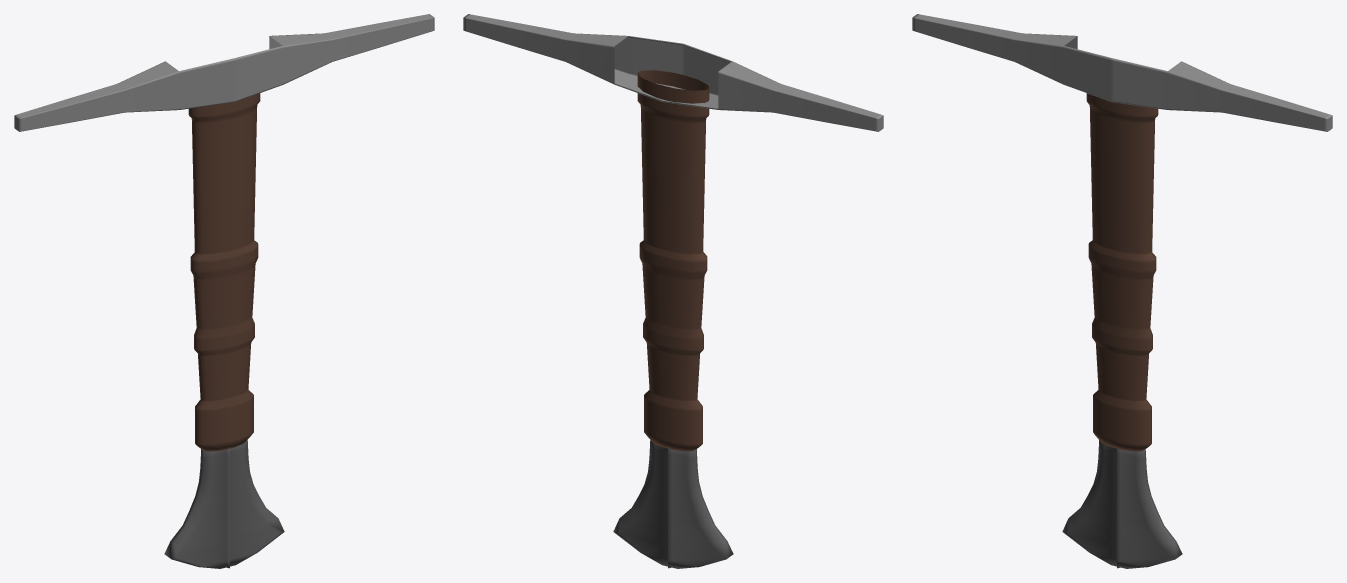
File: HILT2.fbx
3 renders of one model, left to right at view 1: azimuth 30°, elevation 25°; view 2: azimuth 150°, elevation 25°; view 3: azimuth 330°, elevation 25°, orthographic.
Parts seen in each view (by area): view 1: Sword_LOD0.001; view 2: Sword_LOD0.001; view 3: Sword_LOD0.001.
Part boxes in pixels (box(x1,y1,x2,y2)): Sword_LOD0.001: box(14, 14, 434, 568); Sword_LOD0.001: box(463, 14, 883, 568); Sword_LOD0.001: box(912, 14, 1332, 568).
Size of the model in its own units: 50.39 by 59.5 by 4.37.
